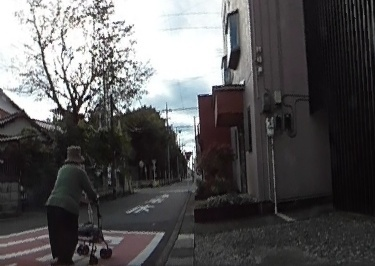person: (43, 142, 96, 265)
